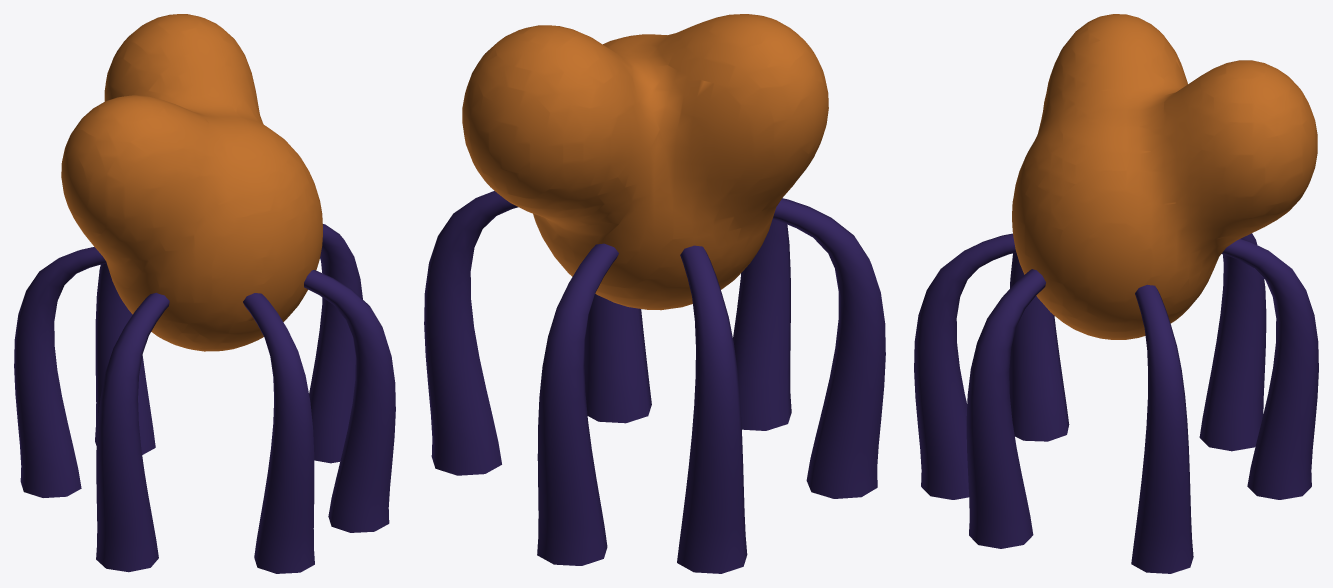
Rendered from Tree Blob 2.glb.
The picture shows the model from 3 angles, left to right: view 1: azimuth 30°, elevation 25°; view 2: azimuth 150°, elevation 25°; view 3: azimuth 270°, elevation 25°; orthographic projection. The views are drawn at different scales.
Visible parts, largest first — view 1: Tree_Blob_2; view 2: Tree_Blob_2; view 3: Tree_Blob_2.
Part boxes in pixels (<box>): Tree_Blob_2: <box>14,14,395,573</box>; Tree_Blob_2: <box>424,14,885,573</box>; Tree_Blob_2: <box>914,14,1318,573</box>.
Bounding box in the file's own units: 3.69 × 4.61 × 3.86.
Materials: 1 (1 with a texture image).
